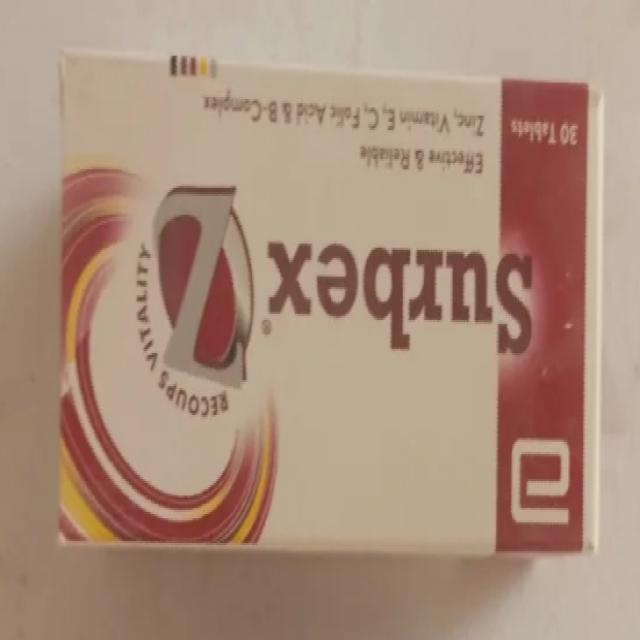drug-name: (261, 234, 546, 358)
